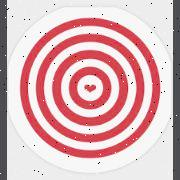target_red: (10, 4, 172, 172)
